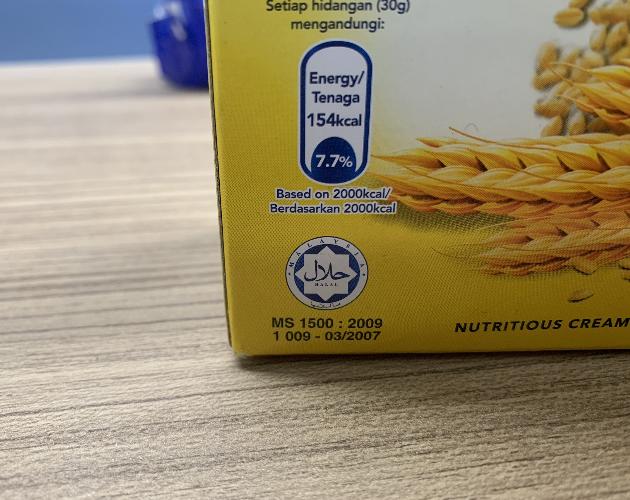halal: (300, 251, 348, 299)
